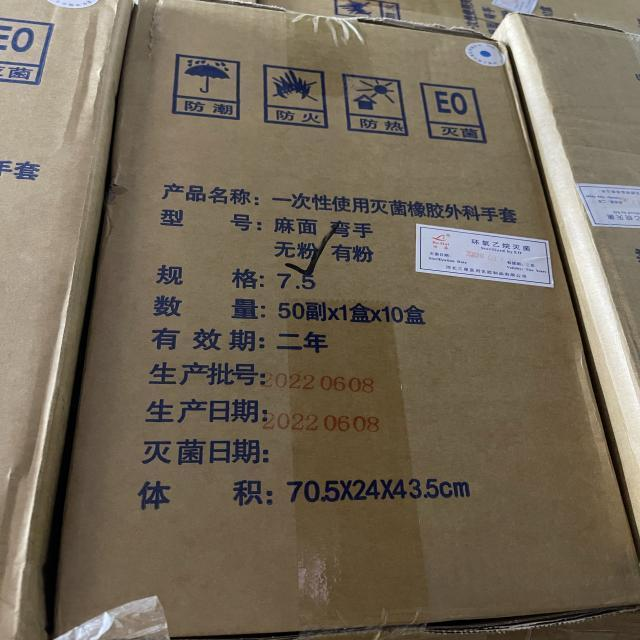box: (49, 0, 640, 638), (491, 10, 640, 640), (0, 0, 132, 640)
